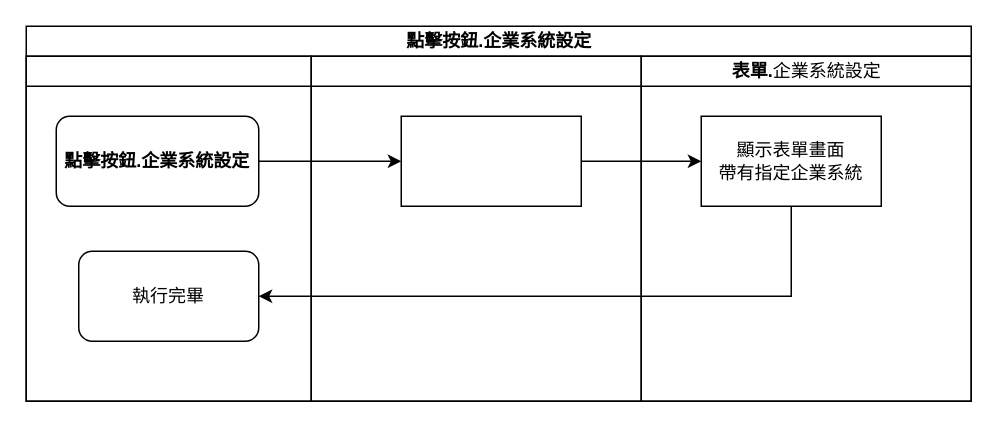
This 998x428 diagram has some shape labels left out. The box of each missing label's shape, as (x1, y1, x2, y2) in pixels:
以視窗開啟 表單.企業系統設定: (400, 115, 581, 206)
企業管理者: (25, 55, 311, 401)
表單.企業設定: (310, 55, 641, 401)
